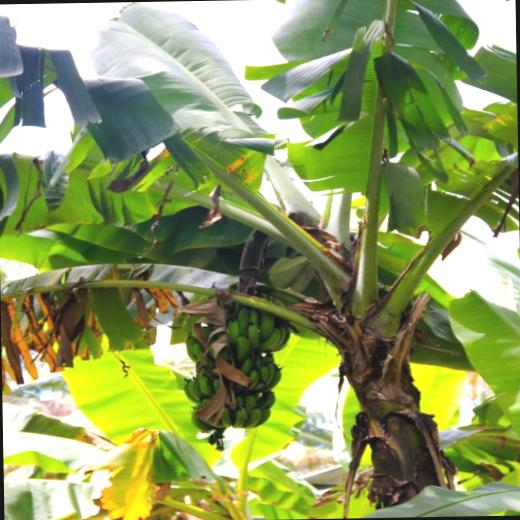Banana: (182, 286, 290, 431), (225, 317, 239, 340)
